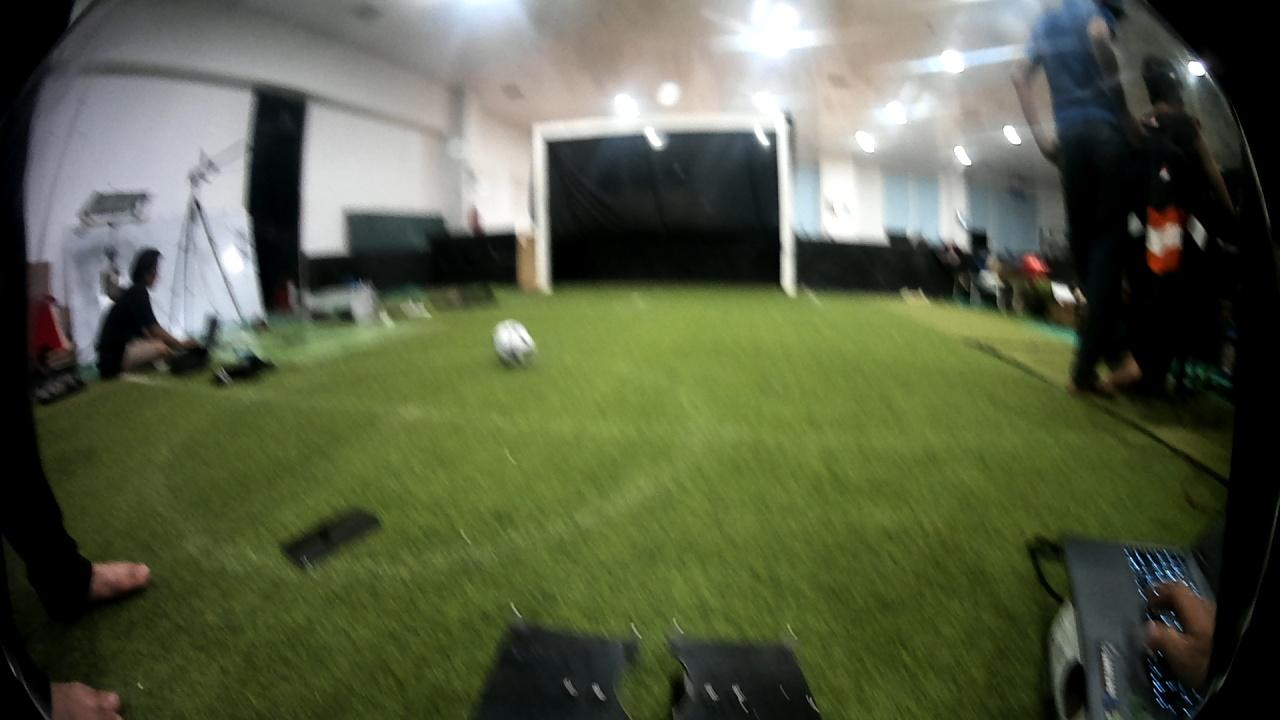ball: (487, 317, 539, 369)
